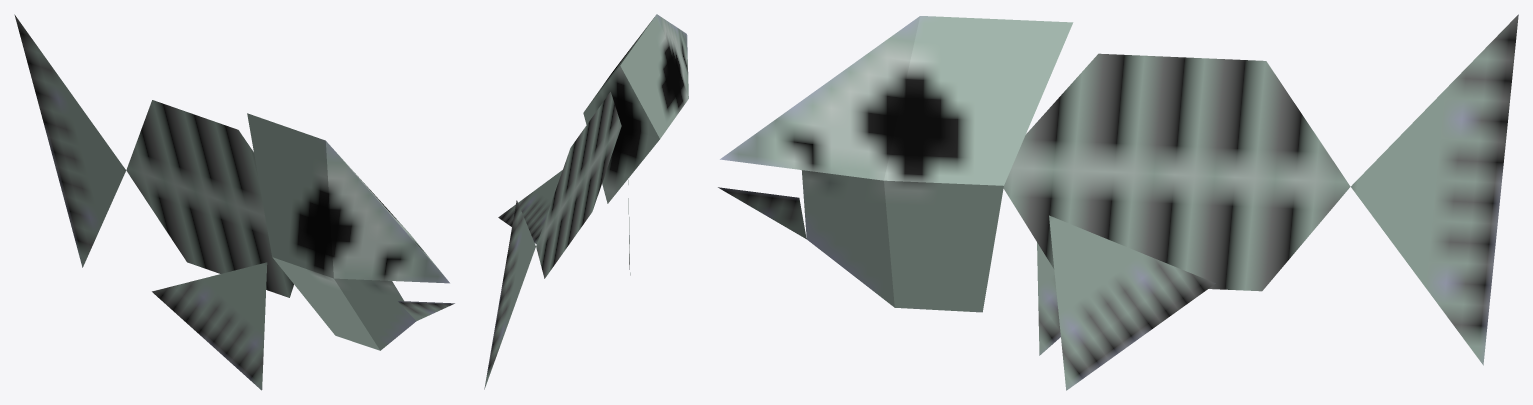
Rendered from bonefish.glb.
3 views of the same model, side by side, from view 1: azimuth 30°, elevation 25°; view 2: azimuth 150°, elevation 25°; view 3: azimuth 270°, elevation 25° (orthographic). The views are drawn at different scales.
Parts seen in each view (by area): view 1: Cube.002; view 2: Cube.002; view 3: Cube.002.
Part boxes in pixels (box(x1,y1,x2,y2)): Cube.002: box(14, 14, 454, 390); Cube.002: box(484, 14, 688, 389); Cube.002: box(718, 14, 1518, 390).
Size of the model in its own units: 0.483 by 0.8548 by 1.73.
Materials: 1 (1 with a texture image).
